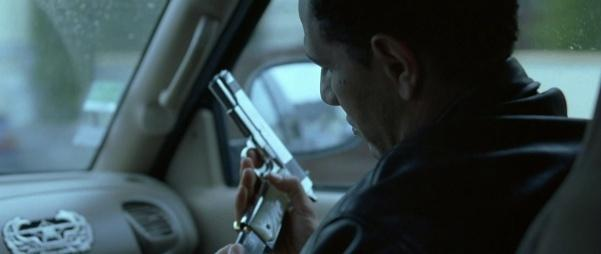Gun: (208, 69, 317, 254)
